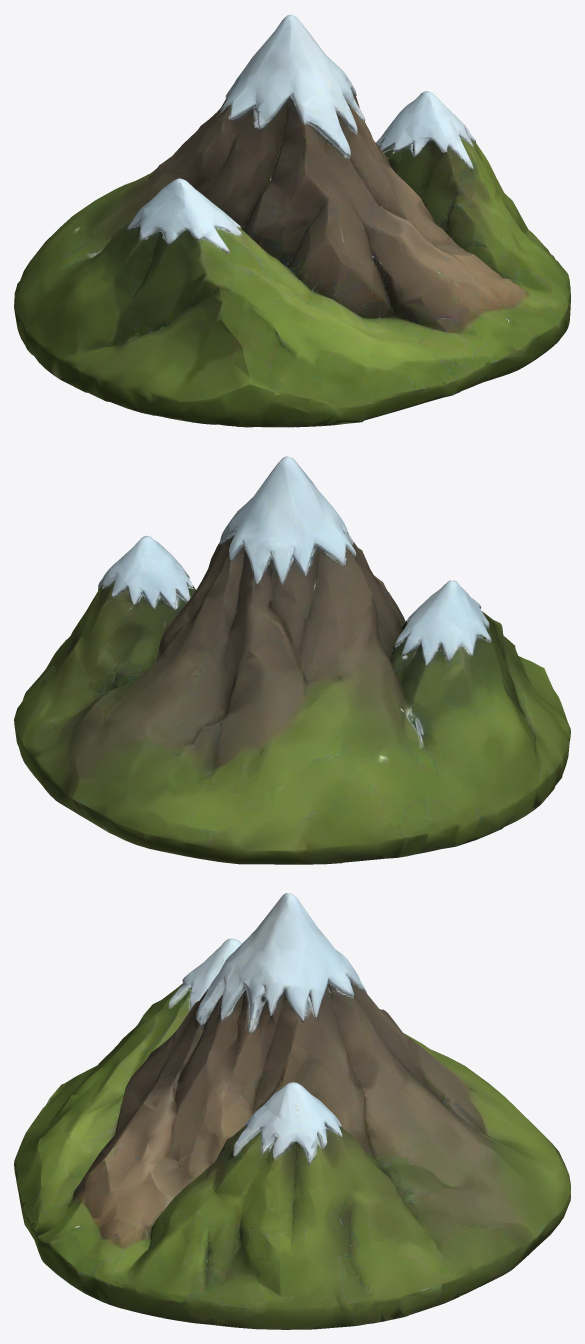
3 renders of one model, top to bottom at view 1: azimuth 30°, elevation 25°; view 2: azimuth 150°, elevation 25°; view 3: azimuth 270°, elevation 25°, orthographic. The views are drawn at different scales.
Size of the model in its own units: 1.9 by 1.12 by 1.81.
1 material, 1 textured.
